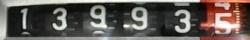digits: (212, 1, 236, 35), (89, 5, 108, 27), (130, 6, 147, 29), (174, 9, 190, 33), (51, 7, 67, 30), (20, 8, 28, 28)
